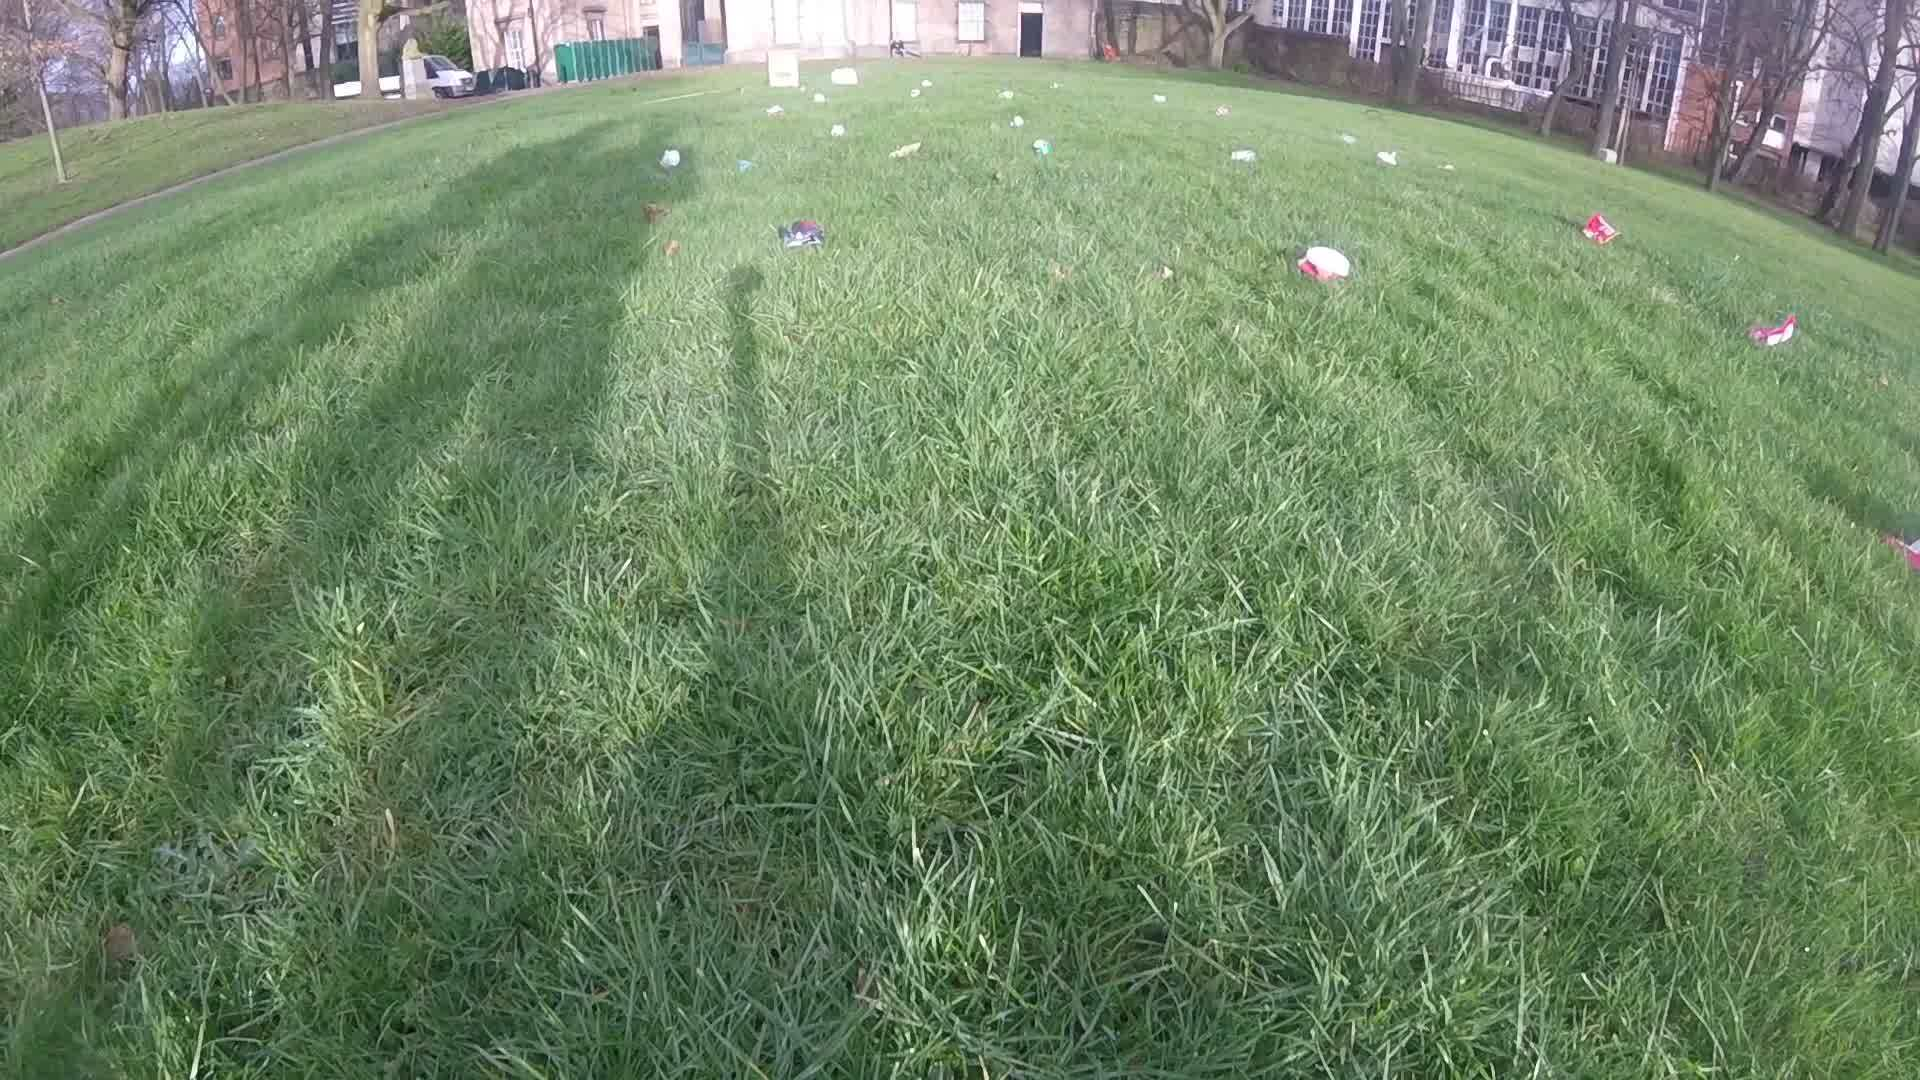litter: (1873, 529, 1920, 574), (1299, 247, 1350, 284), (1581, 208, 1625, 247), (1753, 315, 1797, 352), (774, 218, 823, 248), (767, 49, 802, 87), (1029, 137, 1056, 158), (658, 146, 682, 170), (887, 142, 923, 158), (831, 69, 860, 86), (1375, 148, 1398, 165), (765, 100, 787, 116), (1230, 150, 1259, 162), (1335, 133, 1362, 142), (1215, 105, 1233, 117), (832, 127, 847, 138), (1437, 162, 1456, 171), (738, 160, 752, 171), (907, 88, 924, 96), (1000, 88, 1014, 98), (1153, 94, 1168, 102), (1014, 115, 1025, 127), (919, 79, 934, 87), (814, 95, 829, 102)
